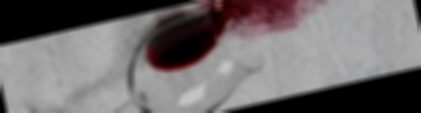wine: (213, 0, 376, 47)
